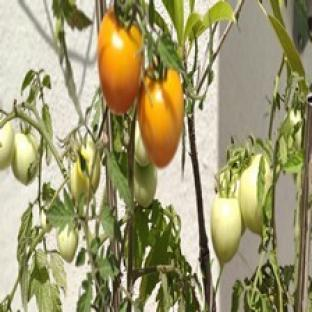Tomato: (98, 10, 142, 114), (138, 69, 183, 167), (240, 154, 271, 235), (211, 195, 242, 264), (70, 138, 100, 201), (12, 133, 38, 185), (134, 162, 157, 207), (134, 122, 150, 167), (0, 122, 15, 169), (58, 226, 77, 263), (219, 172, 239, 199), (289, 111, 302, 149), (41, 209, 51, 232)
